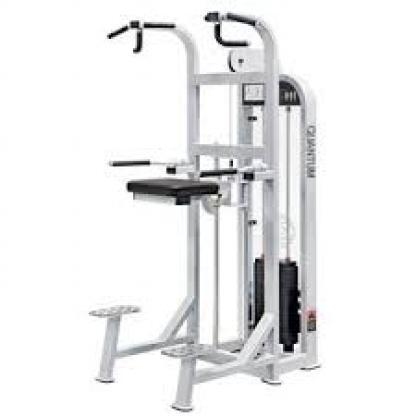chinning dipping: (90, 9, 321, 411)
